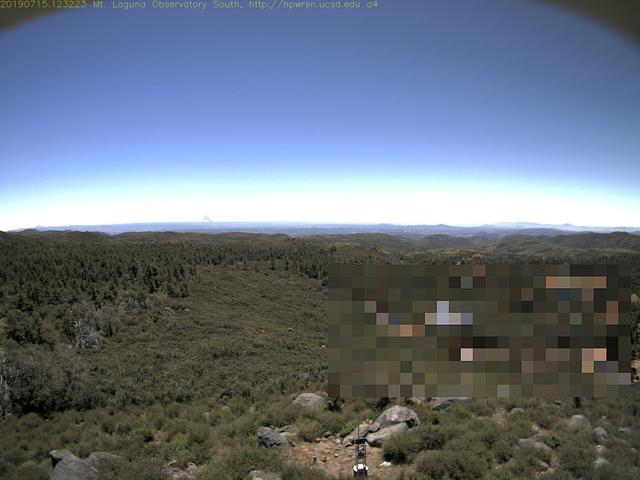smoke: (197, 210, 220, 229)
